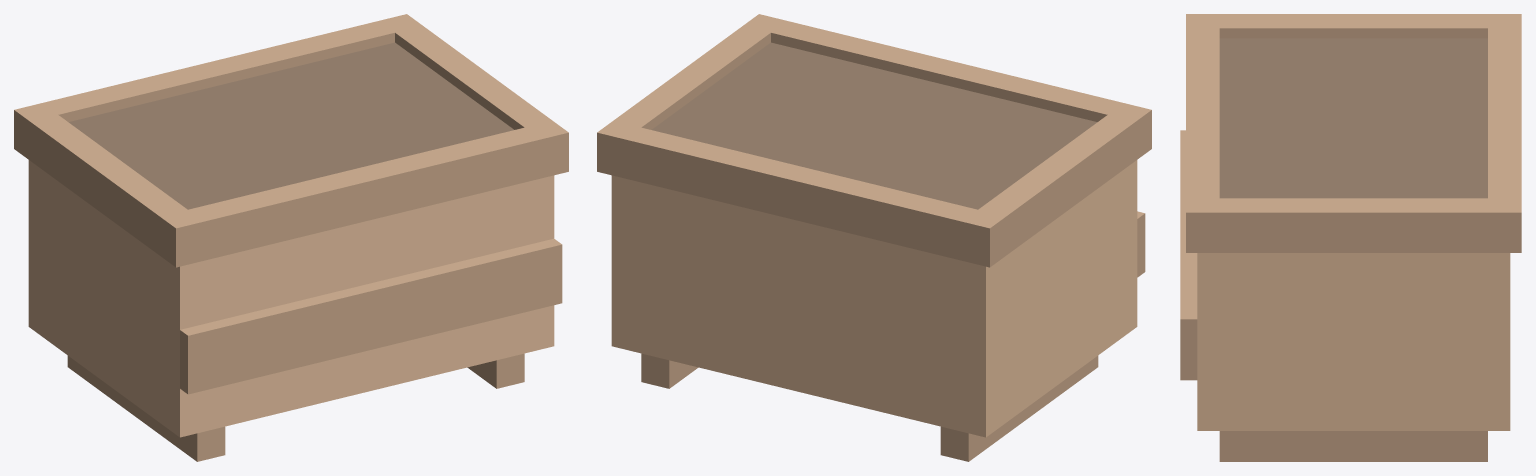
File: gardenHerbPlanter.glb
3 views of the same model, side by side, from view 1: azimuth 30°, elevation 25°; view 2: azimuth 150°, elevation 25°; view 3: azimuth 270°, elevation 25° (orthographic). The views are drawn at different scales.
Parts seen in each view (by area): view 1: gardenHerbPlanter; view 2: gardenHerbPlanter; view 3: gardenHerbPlanter.
Part boxes in pixels (x1,y1,x2,y2): gardenHerbPlanter: (14, 14, 568, 461); gardenHerbPlanter: (597, 14, 1151, 461); gardenHerbPlanter: (1180, 14, 1521, 461).
Size of the model in its own units: 0.42 by 0.26 by 0.305.
